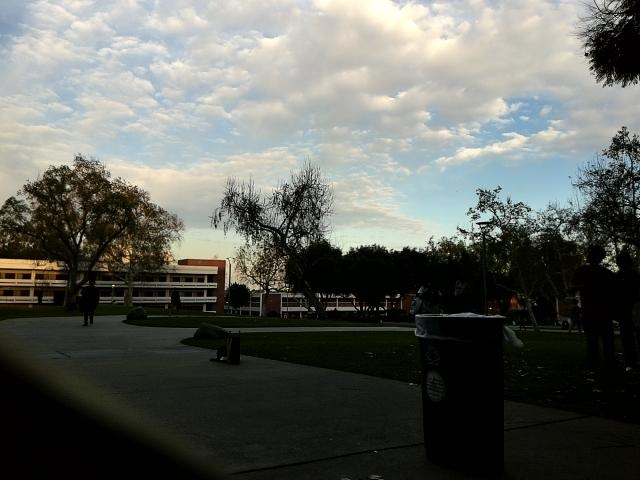trashcan_open: (401, 303, 518, 480)
